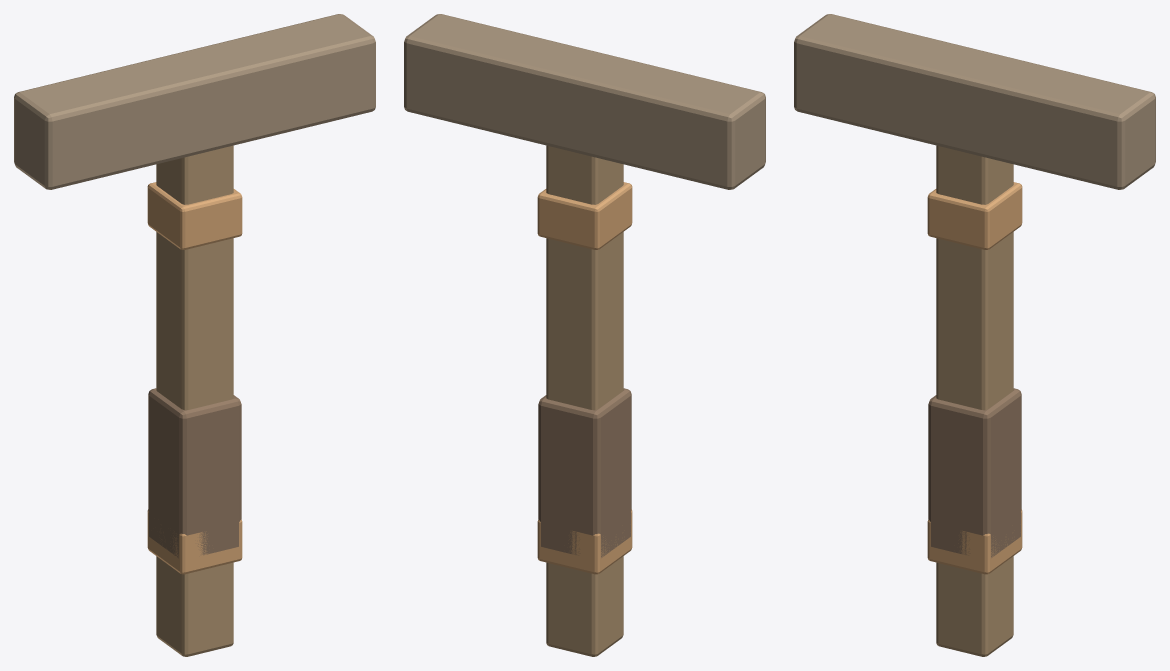
Rendered from weapon_bogiron_pickaxe.glb.
The picture shows the model from 3 angles, left to right: view 1: azimuth 30°, elevation 25°; view 2: azimuth 150°, elevation 25°; view 3: azimuth 330°, elevation 25°; orthographic projection.
Visible parts, largest first — view 1: Pick_head, Haft, Grip_wrap, Band_top, Band_bot; view 2: Pick_head, Haft, Grip_wrap, Band_top, Band_bot; view 3: Pick_head, Haft, Grip_wrap, Band_top, Band_bot.
Part boxes in pixels (left/top/right/bottom): Pick_head: left=14, top=14, right=375, bottom=189; Haft: left=156, top=145, right=233, bottom=656; Grip_wrap: left=148, top=388, right=241, bottom=558; Band_top: left=147, top=182, right=242, bottom=249; Band_bot: left=147, top=509, right=242, bottom=574; Pick_head: left=404, top=14, right=765, bottom=189; Haft: left=546, top=145, right=623, bottom=656; Grip_wrap: left=538, top=388, right=631, bottom=557; Band_top: left=537, top=182, right=632, bottom=249; Band_bot: left=537, top=509, right=632, bottom=574; Pick_head: left=794, top=14, right=1155, bottom=189; Haft: left=936, top=145, right=1013, bottom=656; Grip_wrap: left=928, top=388, right=1021, bottom=557; Band_top: left=927, top=182, right=1022, bottom=249; Band_bot: left=927, top=509, right=1022, bottom=574.
Bounding box in the file's own units: 0.32 × 0.535 × 0.06.
